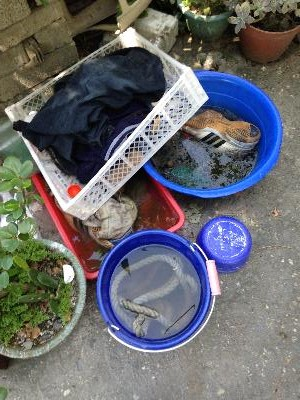bowl: (141, 65, 287, 200), (195, 215, 253, 272)
box: (30, 166, 183, 280)
bucket: (98, 228, 221, 354)
